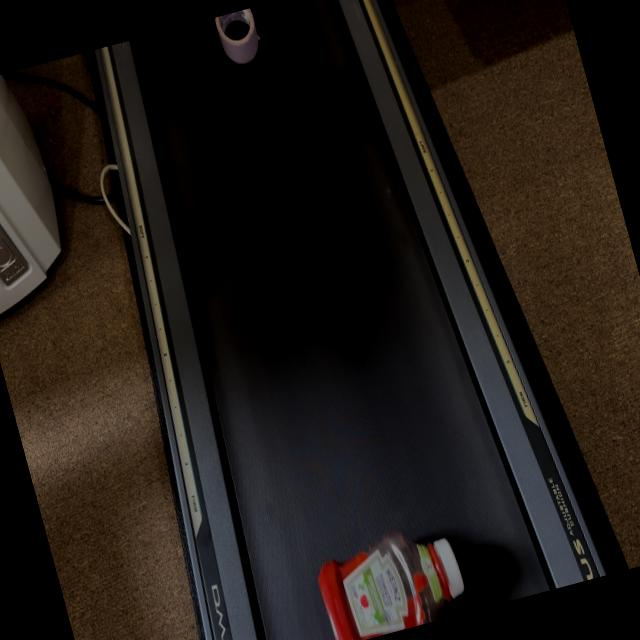Trash: (308, 516, 471, 640), (210, 6, 266, 70)
